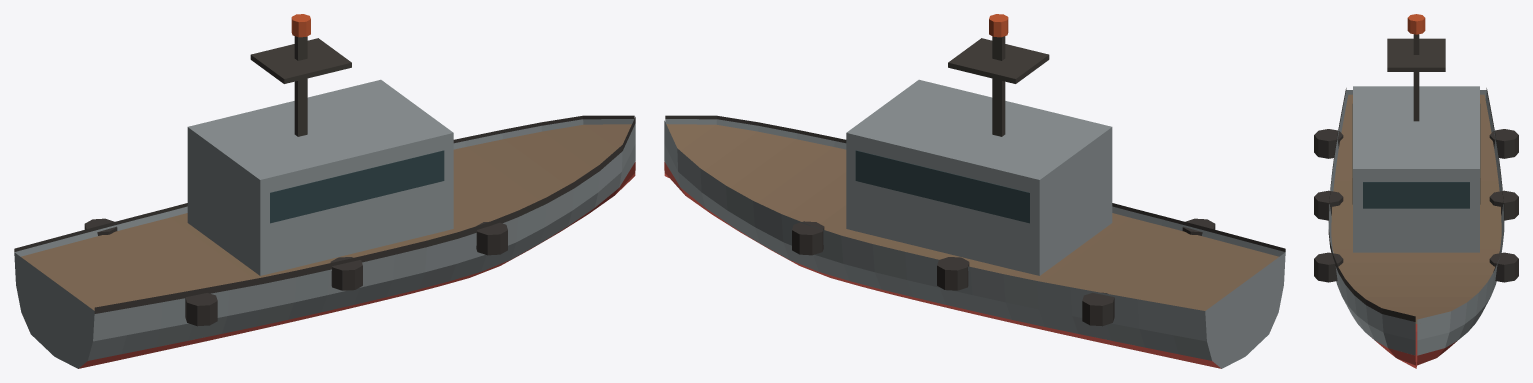
The model's file is sahil-guvenlik-botu.glb.
The picture shows the model from 3 angles, left to right: view 1: azimuth 30°, elevation 25°; view 2: azimuth 150°, elevation 25°; view 3: azimuth 270°, elevation 25°; orthographic projection. The views are drawn at different scales.
Visible parts, largest first — view 1: gri_bot, ahsap, kauçuk, cam, demir, tekne_kirmizi; view 2: gri_bot, ahsap, cam, kauçuk, demir, tekne_kirmizi; view 3: gri_bot, ahsap, kauçuk, cam, demir, tekne_kirmizi, can.
Part boxes in pixels (x1,y1,x2,y2): gri_bot: [14, 79, 635, 368]; ahsap: [21, 124, 631, 310]; kauçuk: [14, 115, 635, 326]; cam: [270, 150, 444, 223]; demir: [250, 36, 351, 136]; tekne_kirmizi: [78, 162, 635, 368]; gri_bot: [664, 79, 1285, 368]; ahsap: [666, 124, 1278, 310]; cam: [855, 150, 1029, 223]; kauçuk: [665, 115, 1285, 326]; demir: [948, 36, 1049, 136]; tekne_kirmizi: [664, 162, 1221, 368]; gri_bot: [1328, 86, 1504, 355]; ahsap: [1331, 94, 1501, 323]; kauçuk: [1314, 88, 1518, 321]; cam: [1352, 104, 1480, 208]; demir: [1387, 34, 1445, 121]; tekne_kirmizi: [1372, 324, 1456, 368]; can: [1407, 14, 1425, 34].
Size of the model in its own units: 12 by 5.5 by 4.2.
